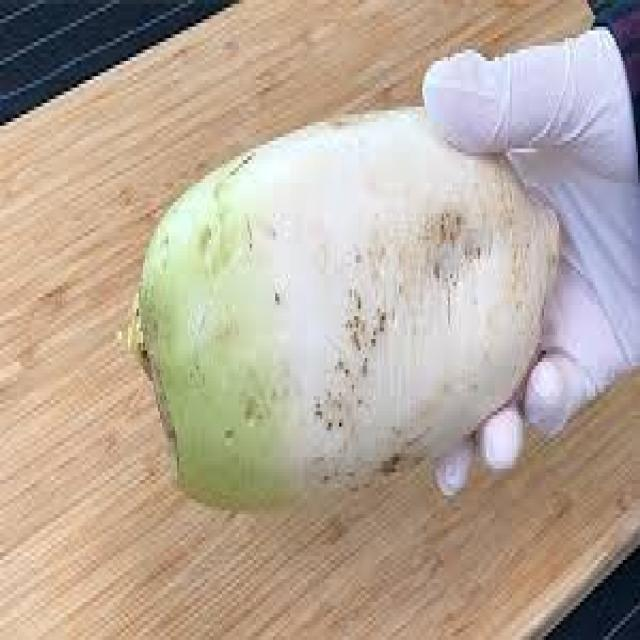Radish: (137, 107, 561, 505)
